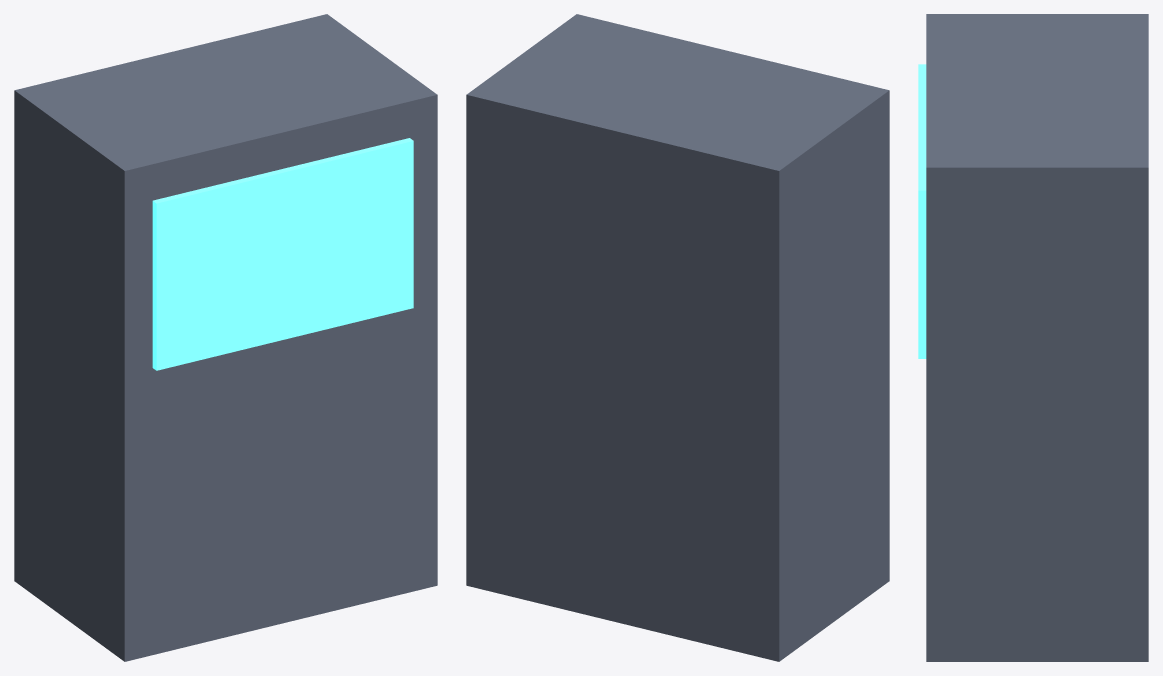
The model's file is data_terminal.glb.
3 renders of one model, left to right at view 1: azimuth 30°, elevation 25°; view 2: azimuth 150°, elevation 25°; view 3: azimuth 270°, elevation 25°, orthographic.
Visible parts, largest first — view 1: Terminal; view 2: Terminal; view 3: Terminal.
Boxes of the visible parts, box(x1,y1,x2,y2) form: Terminal: box(14, 14, 437, 661); Terminal: box(466, 14, 889, 661); Terminal: box(918, 14, 1148, 661).
Bounding box in the file's own units: 0.9 × 1.35 × 0.57.
